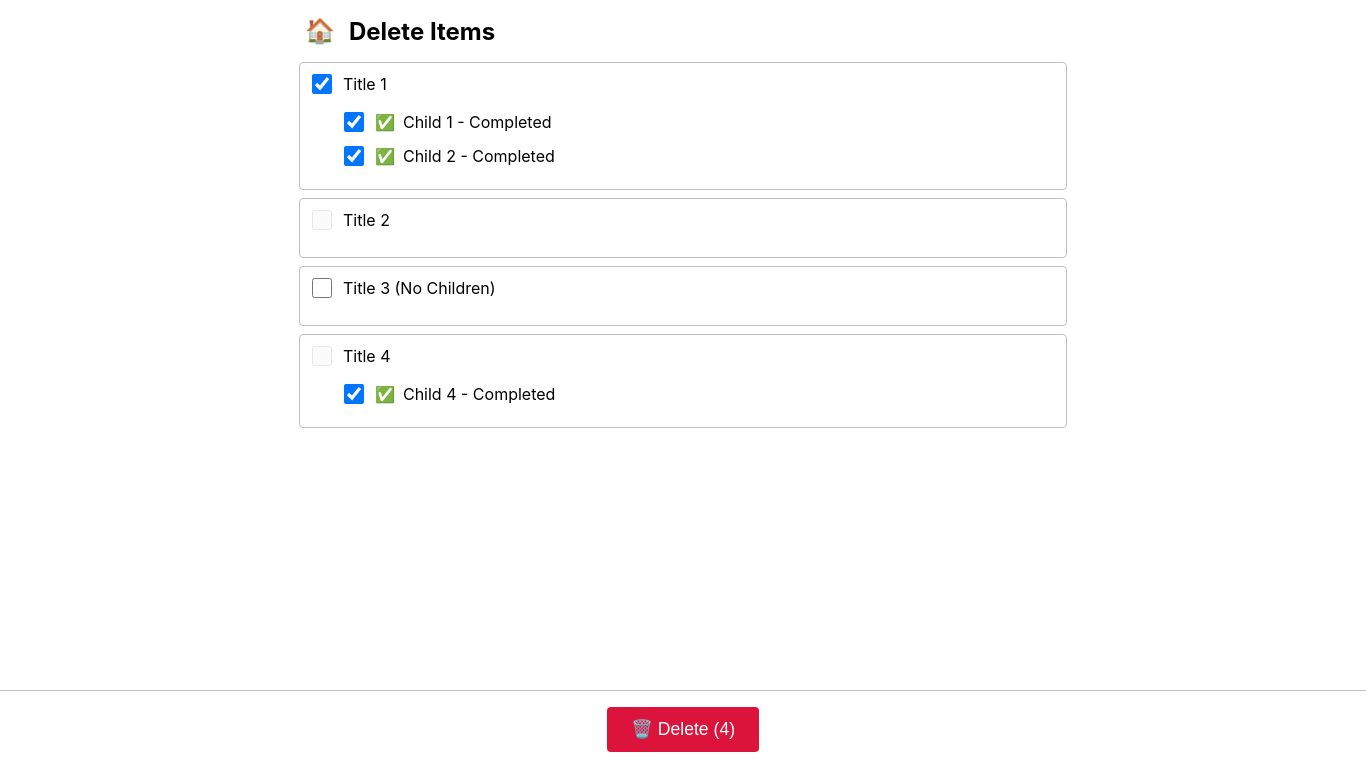
DeleteView › delete button › should show confirmation dialog when delete button is clicked
Click the button with class "delete-button": (683, 730) [607,707,759,752]
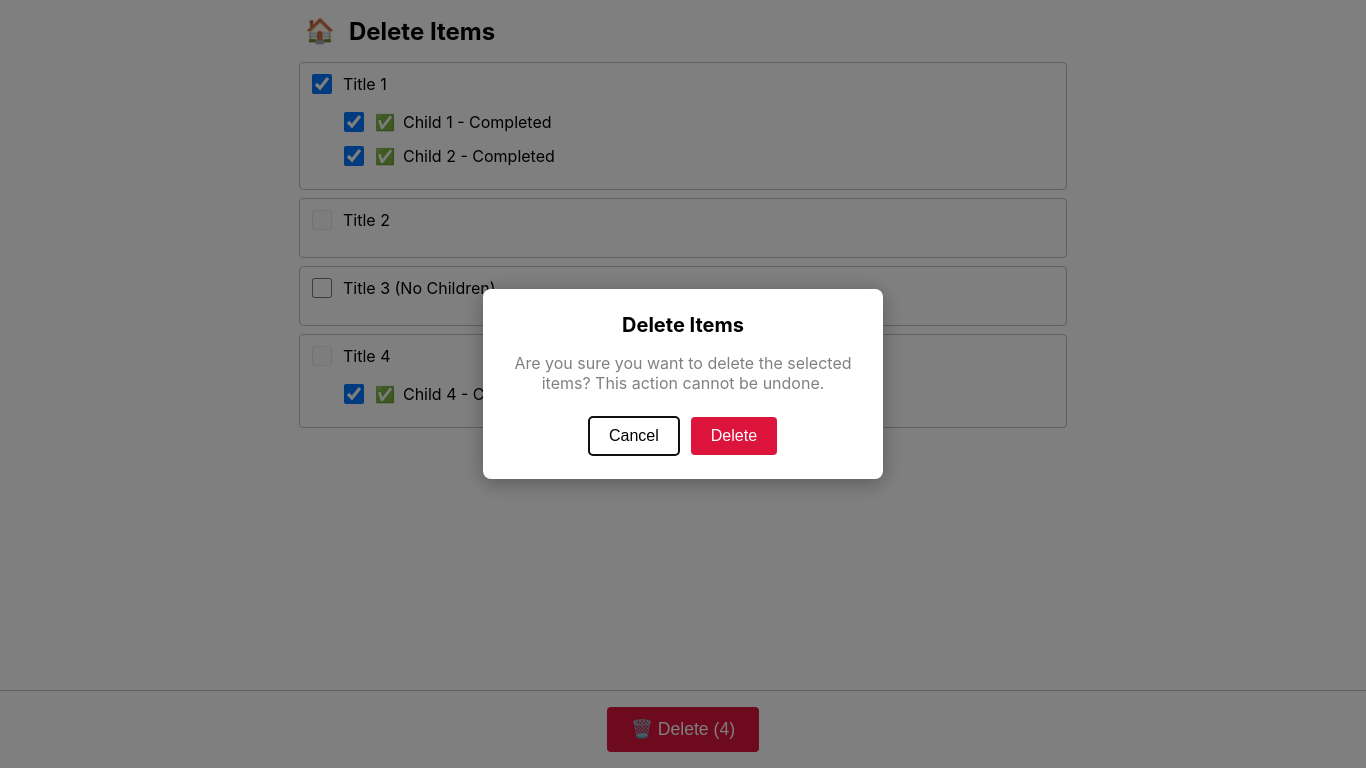
Result: the dialog is shown at [483,289,883,479]
